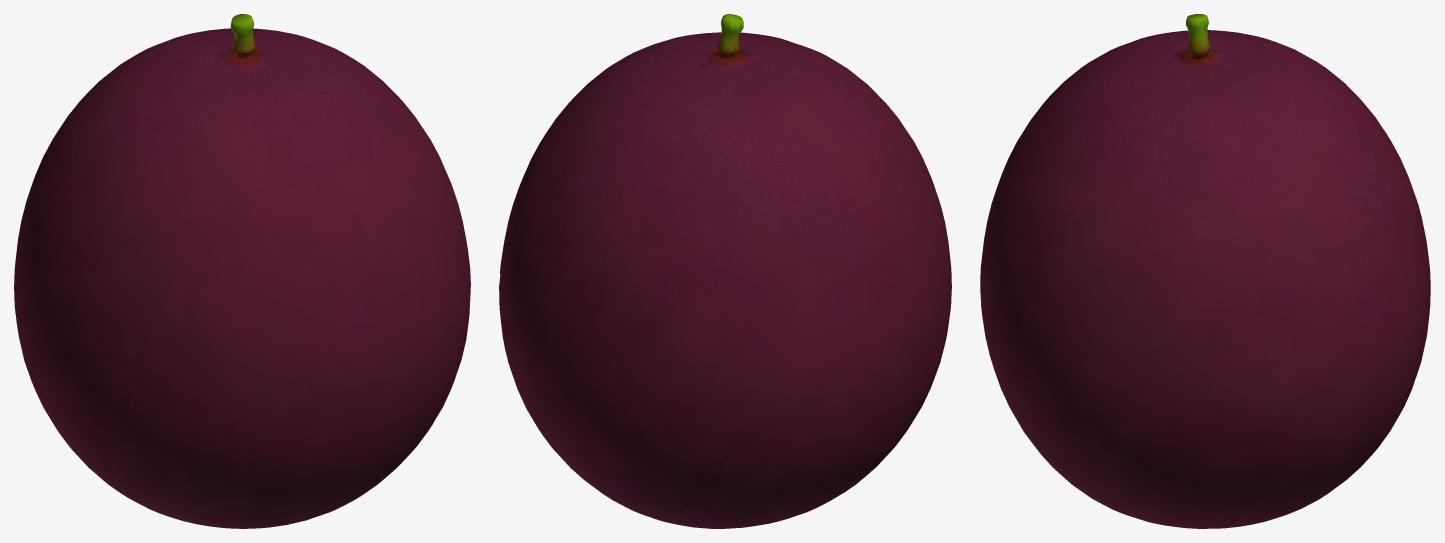
File: passionfruit.glb
3 renders of one model, left to right at view 1: azimuth 30°, elevation 25°; view 2: azimuth 150°, elevation 25°; view 3: azimuth 270°, elevation 25°, orthographic.
Parts seen in each view (by area): view 1: material; view 2: material; view 3: material.
Part boxes in pixels (left/top/right/bottom): material: left=14, top=14, right=470, bottom=528; material: left=499, top=14, right=951, bottom=528; material: left=980, top=14, right=1430, bottom=528.
Size of the model in its own units: 0.9872 by 1.16 by 0.9857.
Materials: 1 (1 with a texture image).
